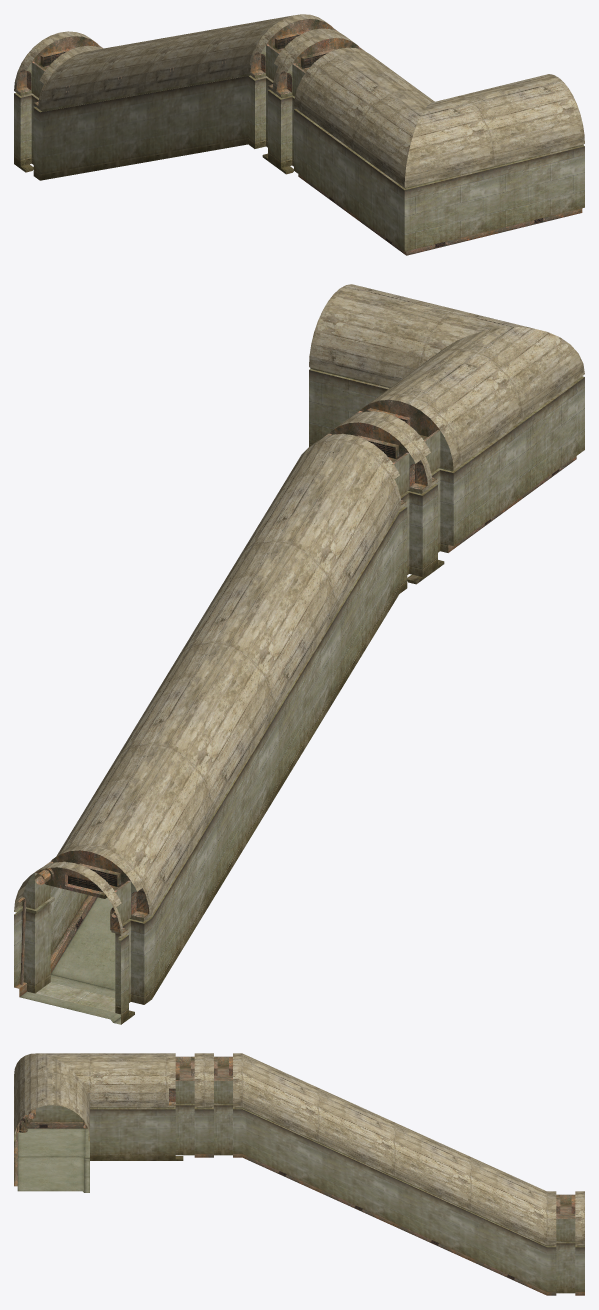
Rendered from poi_all_bunker_mad_bio_s01_r27_hall8_mesh_r27.fbx.
The picture shows the model from 3 angles, top to bottom: view 1: azimuth 30°, elevation 25°; view 2: azimuth 150°, elevation 25°; view 3: azimuth 270°, elevation 25°; orthographic projection. The views are drawn at different scales.
Visible parts, largest first — view 1: mesh_node; view 2: mesh_node; view 3: mesh_node.
Part boxes in pixels (<box>): mesh_node: <box>14,14,584,255</box>; mesh_node: <box>14,284,584,1024</box>; mesh_node: <box>14,1053,584,1295</box>.
Bounding box in the file's own units: 8 × 13.1 × 30.
